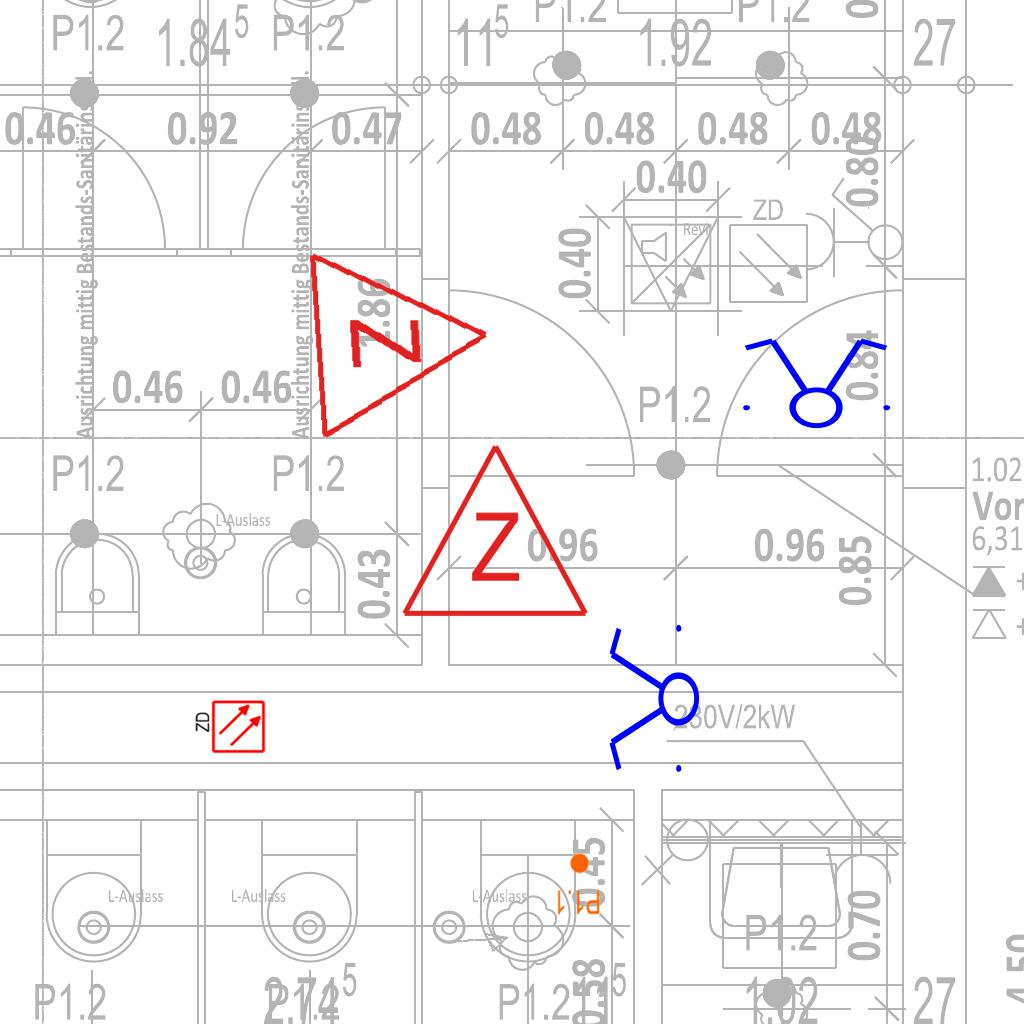Downlight_LED_Einbauleuchten_Flur_2: (555, 852, 601, 916)
Serienschalter: (605, 616, 701, 784), (731, 334, 899, 430)
ZD_Melder_in_Zwischendecke_mit_Revisionsoeffnung_mind_40_x_40_cm: (192, 699, 266, 756)
Zimmersignalleuchte: (294, 233, 508, 443), (395, 431, 591, 631)
